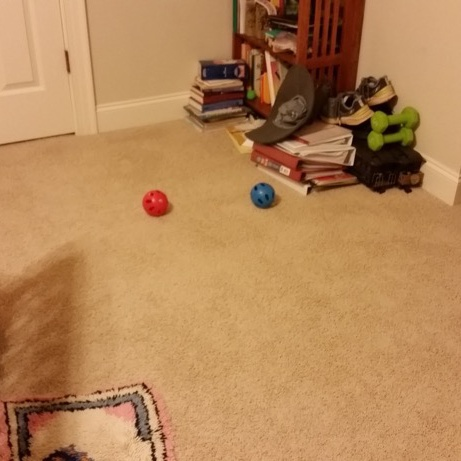ball: (137, 187, 172, 219), (246, 180, 278, 210)
